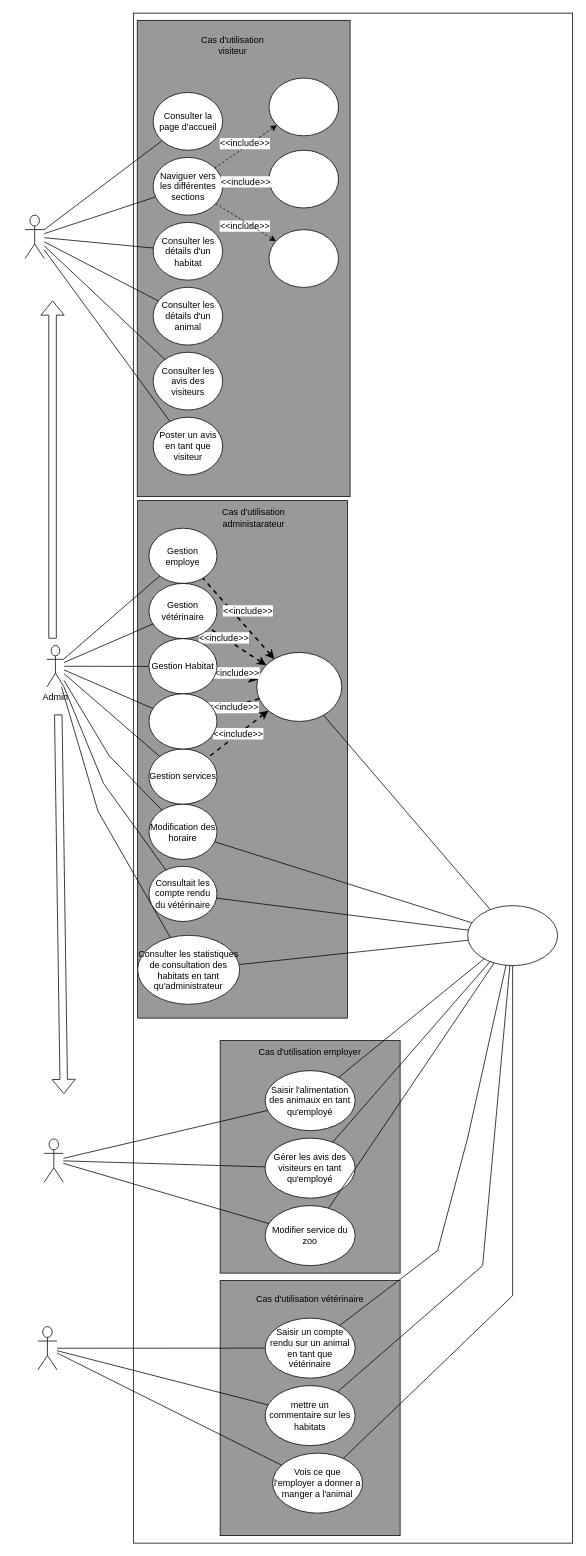
Some shapes in this 586 by 1556 pixel diagram are drawn without their labels. The centre of each missing label's shape, as x and y in pixels:
Contact: the point at 303,258
CRUD: the point at 299,686
Employé: the point at 53,1160
Gestion Animaux: the point at 182,721
Habitats: the point at 303,106
Se connecter: the point at 512,935
Services: the point at 303,178
Visiteur: the point at 34,236
Vétérinaire: the point at 47,1348
